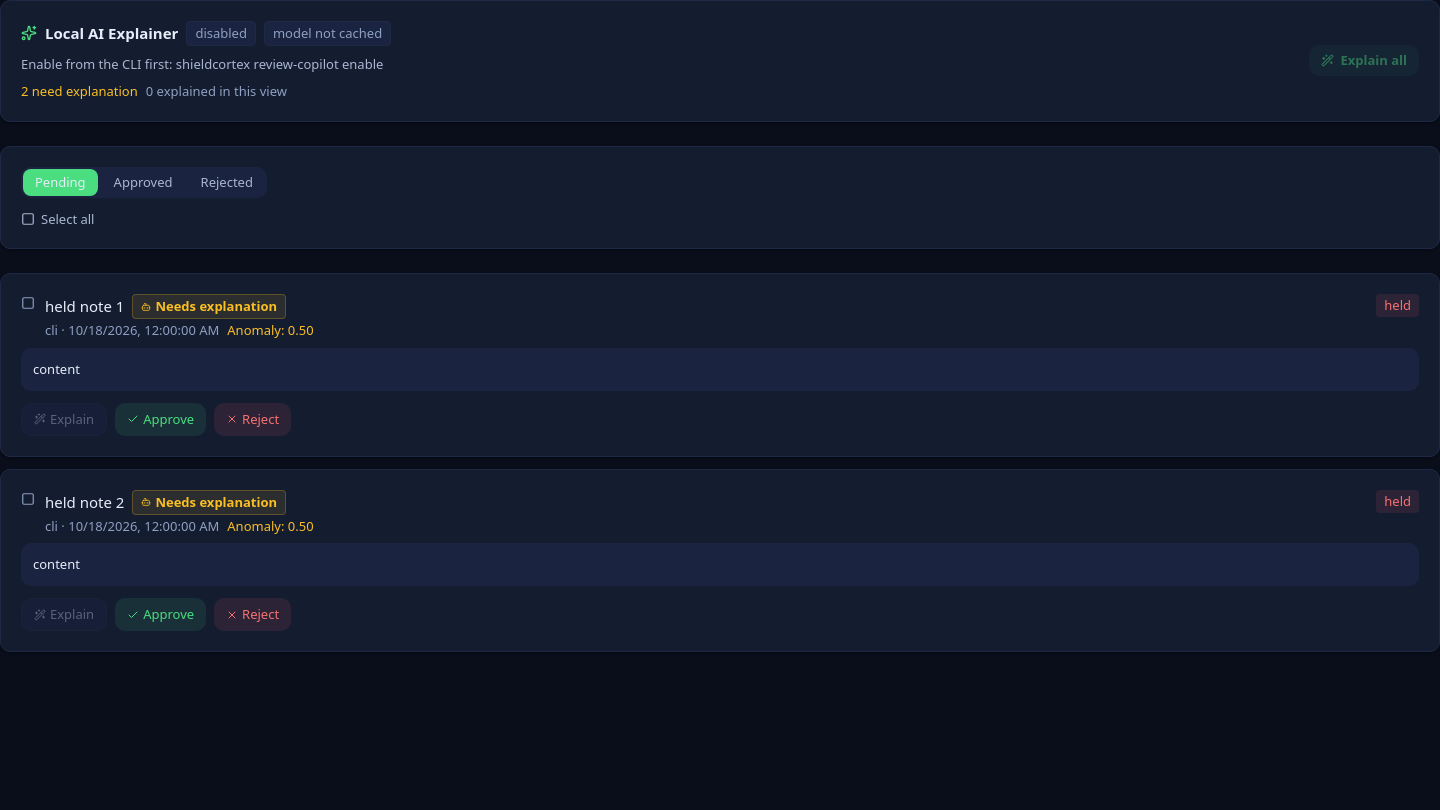
QuarantineView approval notices (#824, #828) › the notice clears on a later successful approval
Step 1. Click the button "Approve" below "held note 1" → click(161, 419), box [115, 403, 206, 436]
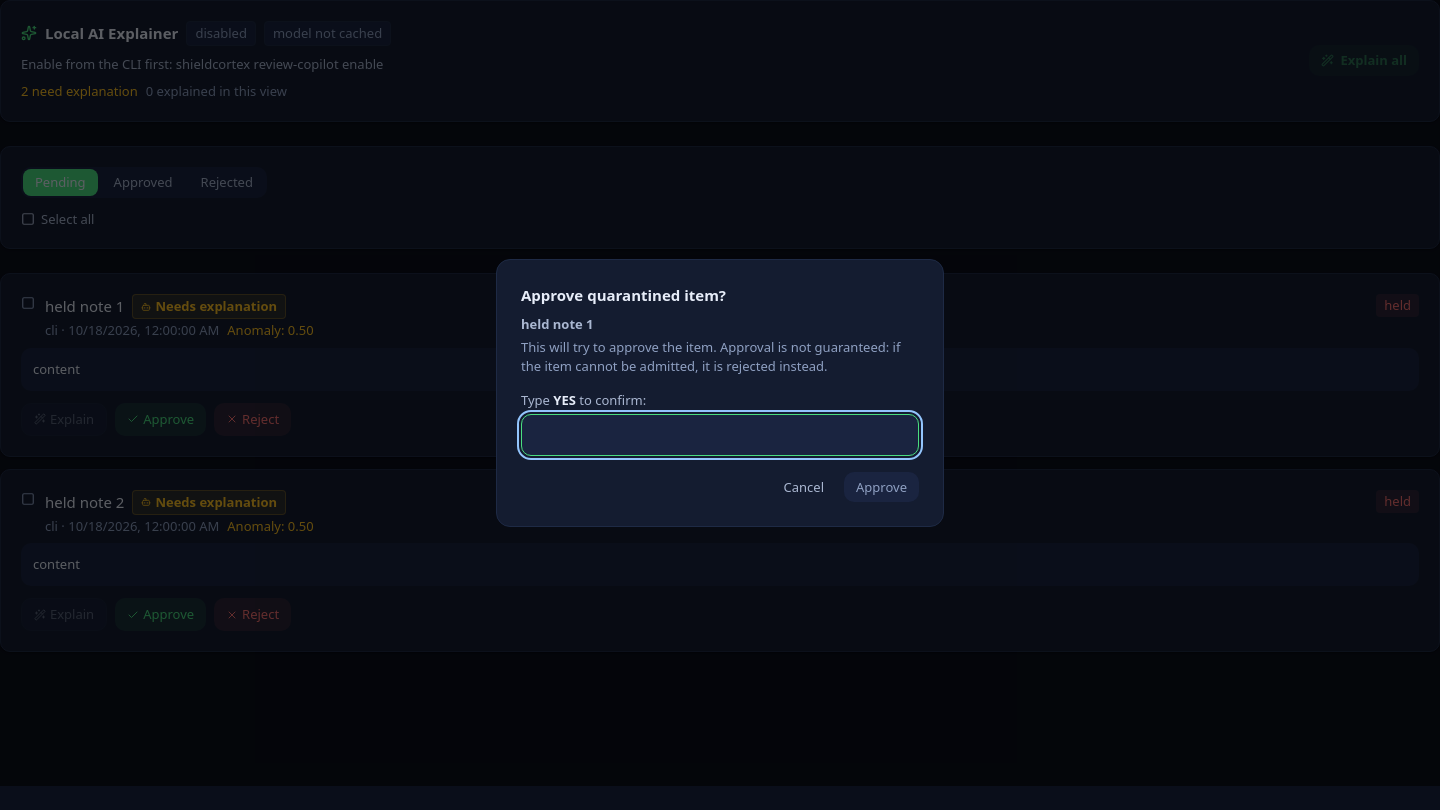
Check: the text "re-scan" is not shown
Check: the text "Approval is not guaranteed: if the item cannot be admitted, it is rejected instead." is shown, box [521, 338, 900, 374]
Step 2. Type "YES" into the field → (720, 435), box [521, 414, 919, 456]
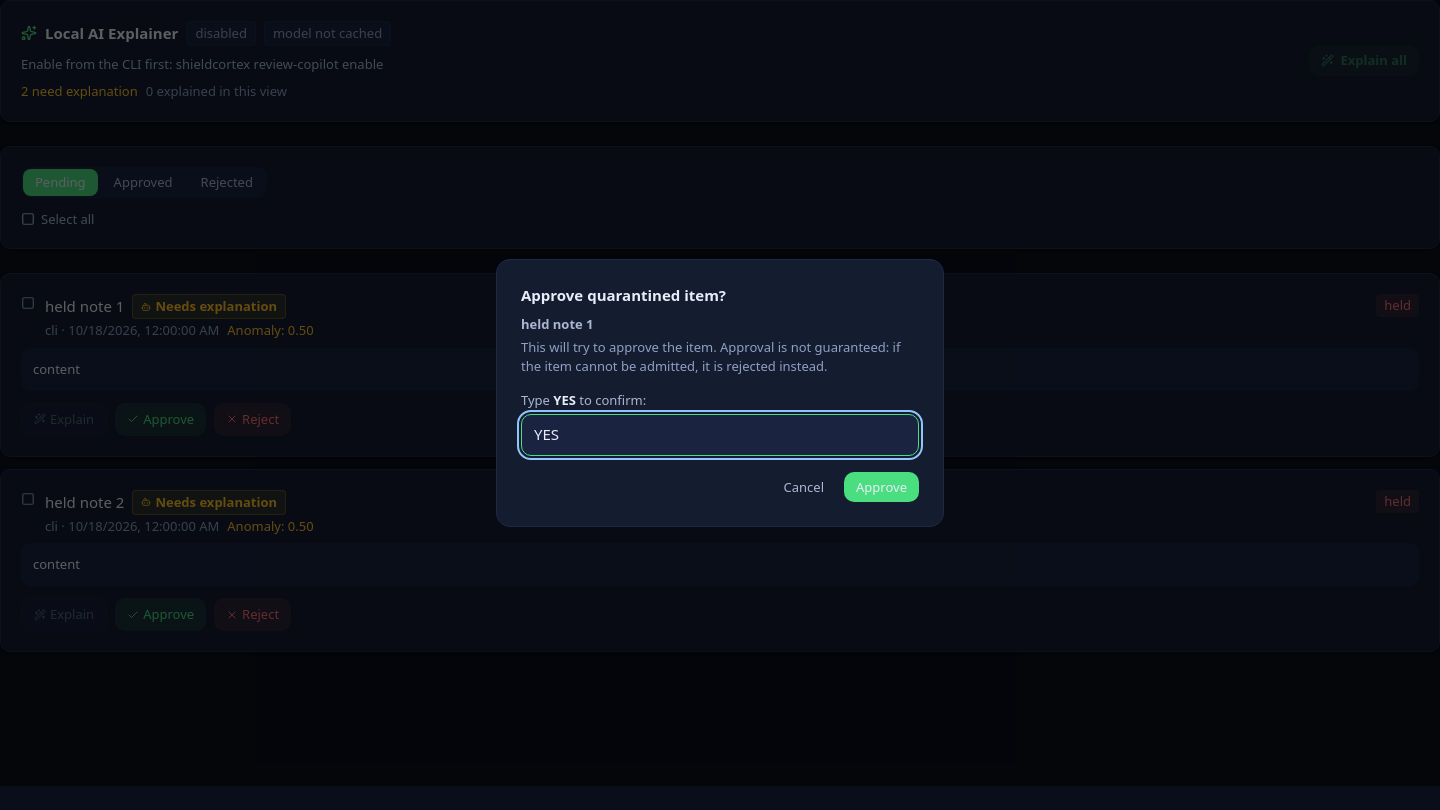
Step 3. Click the button "Approve" → click(882, 487), box [844, 472, 919, 502]
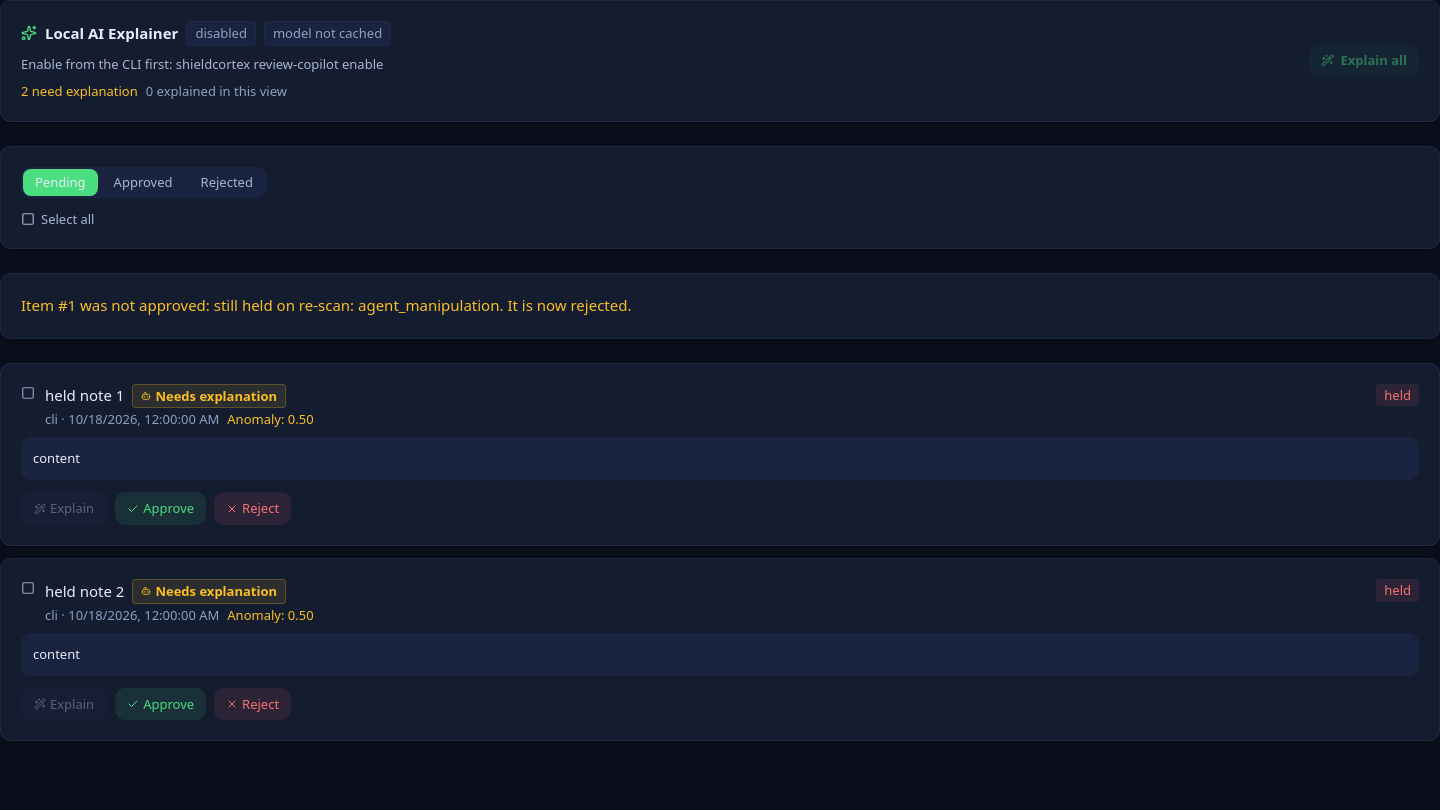
Check: the message shows "Item #1 was not approved", box [21, 295, 632, 315]
Step 4. Click the button "Approve" below "held note 2" → click(161, 704), box [115, 688, 206, 720]
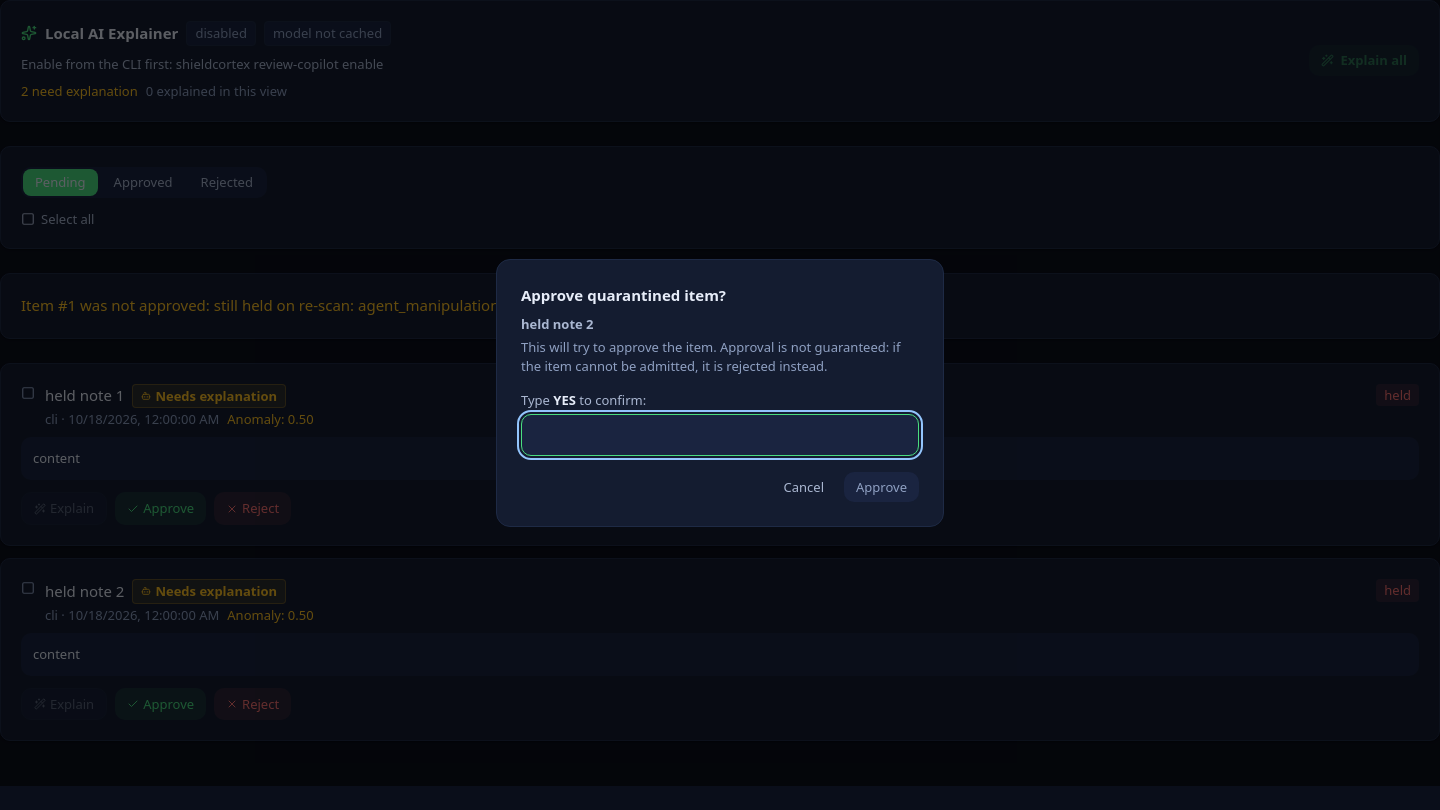
Check: the text "Approval is not guaranteed: if the item cannot be admitted, it is rejected instead." is shown, box [521, 338, 900, 374]
Step 5. Type "YES" into the field → (720, 435), box [521, 414, 919, 456]
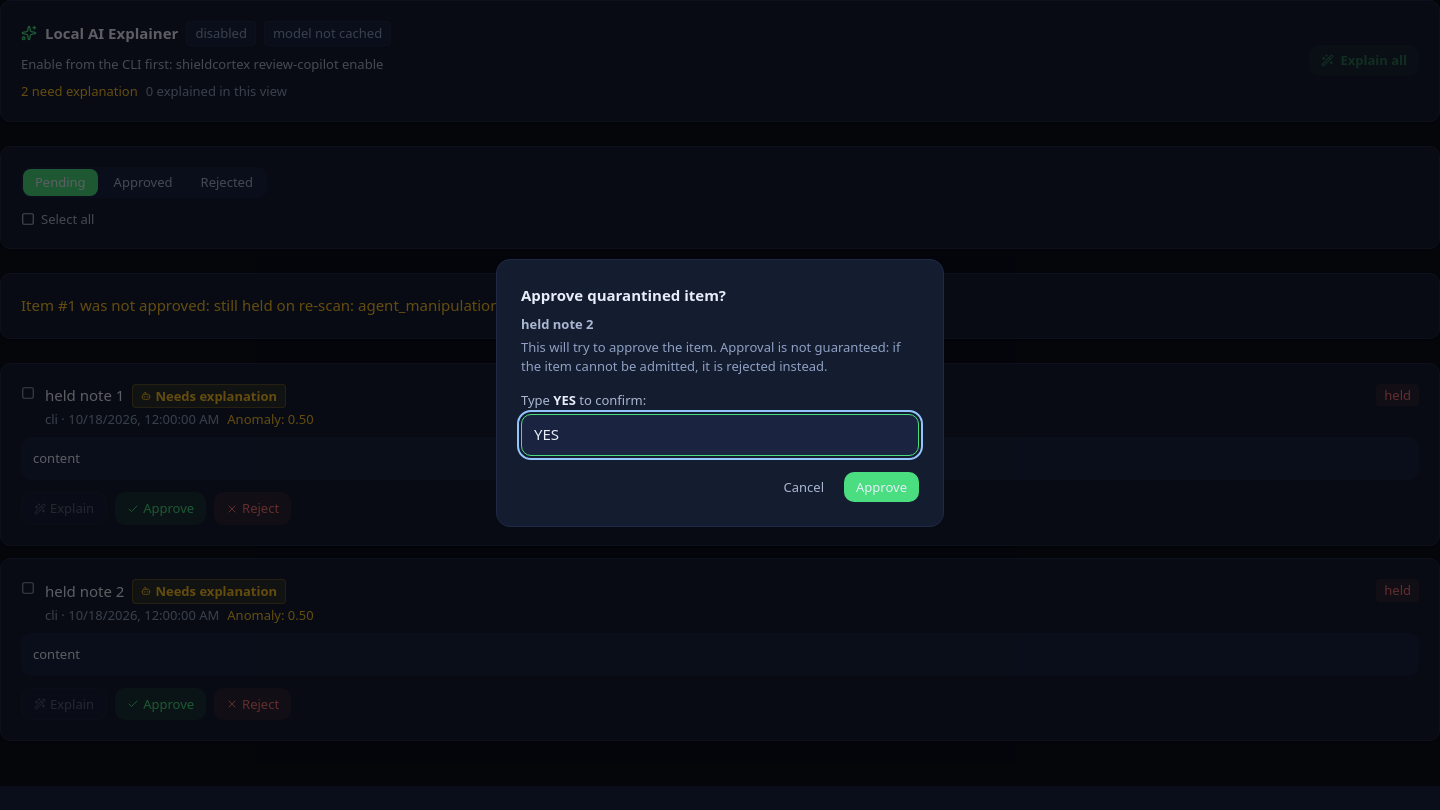
Step 6. Click the button "Approve" → click(882, 487), box [844, 472, 919, 502]
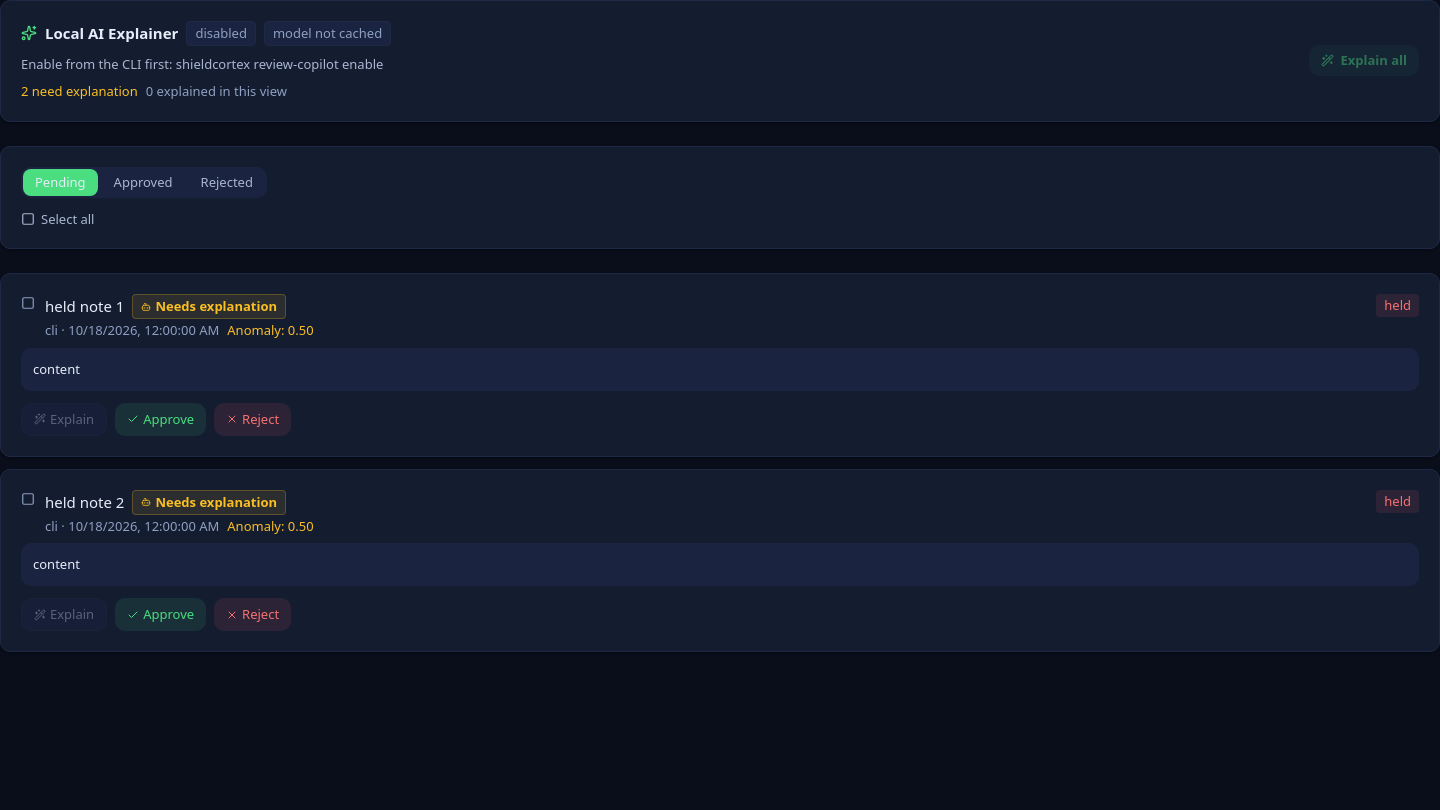
Check: the message is gone
